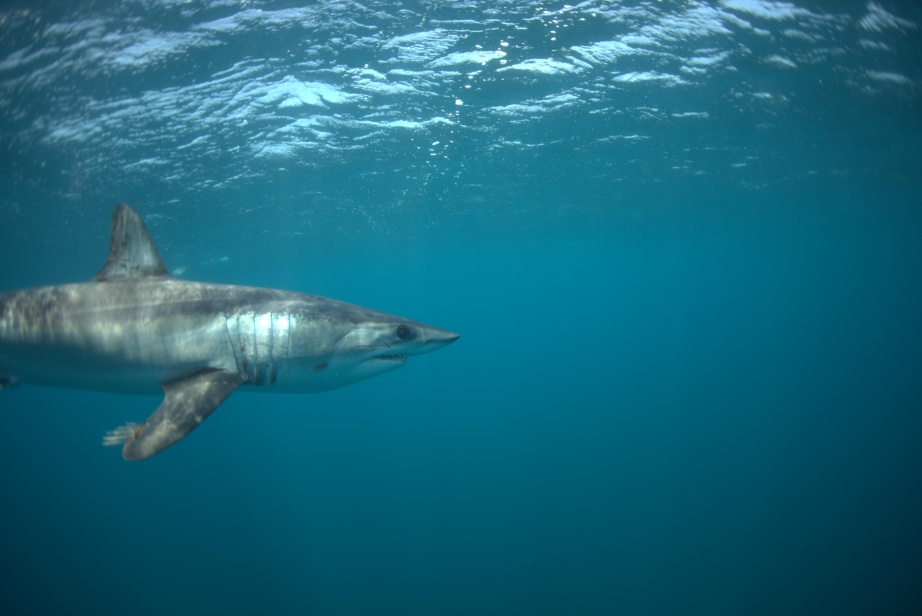Mako: (1, 200, 475, 469)
